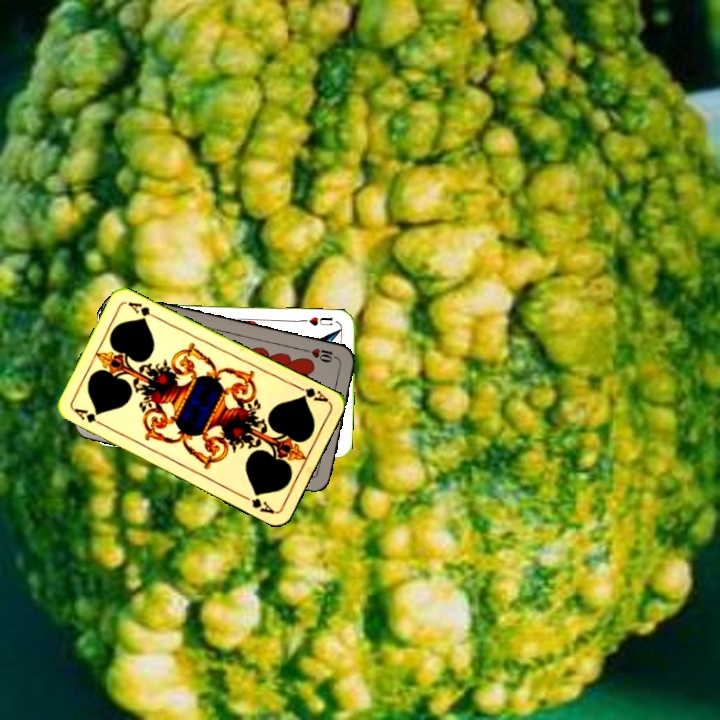GA: (70, 404, 108, 429), (292, 381, 331, 405)
H10: (301, 344, 341, 365)
HU: (305, 313, 335, 328)
